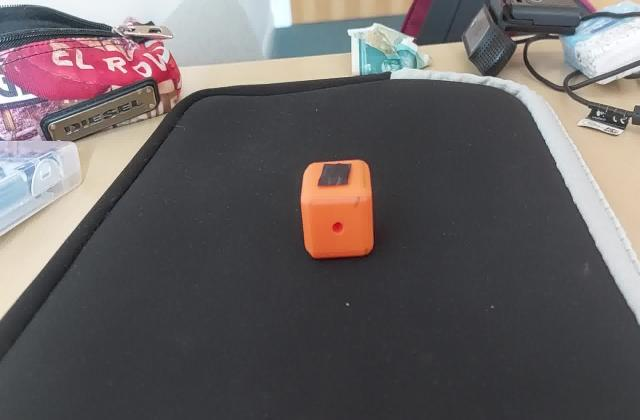cube: (297, 158, 375, 264)
